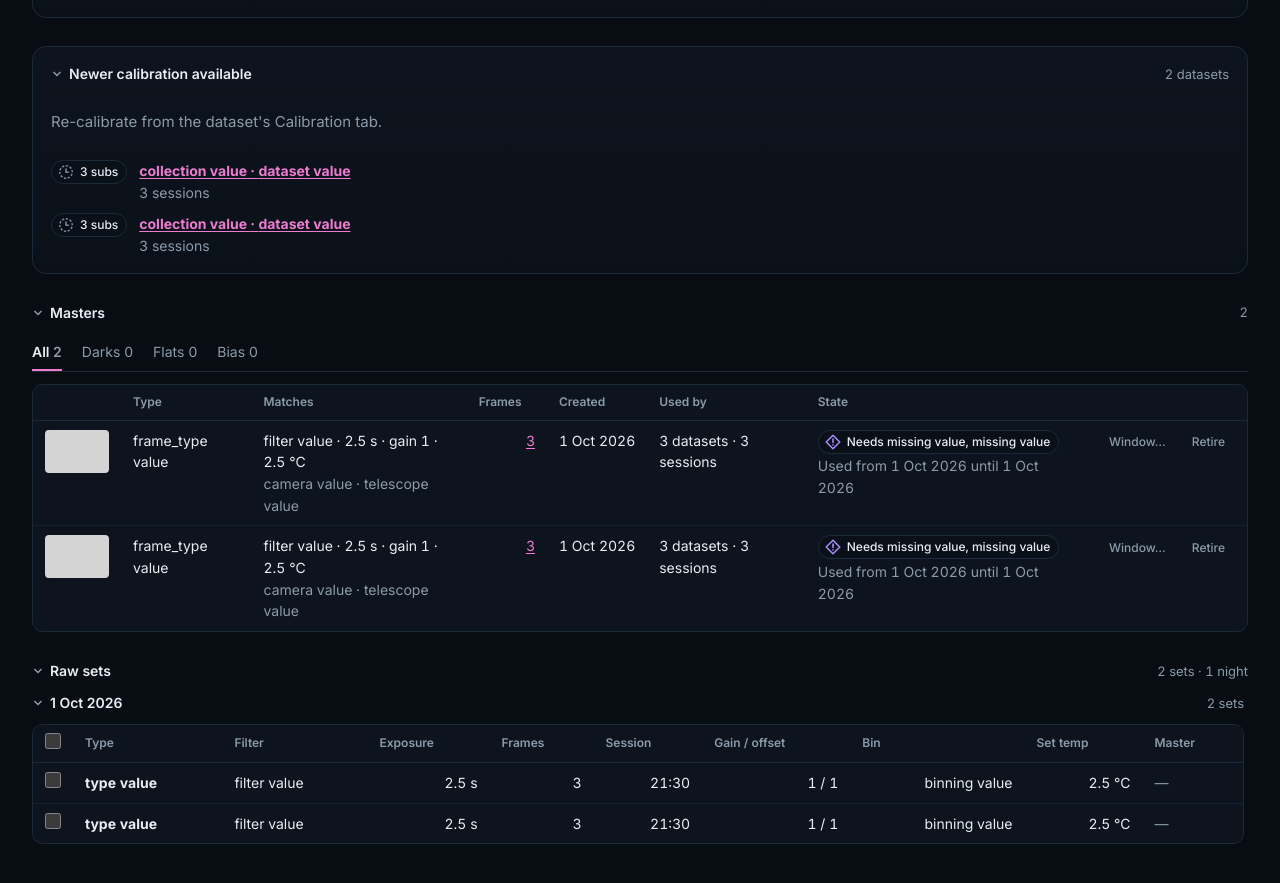
Scenario: bulk selection (spec 016 U6) › builds several calibration sets from one bar
(page scrolled)
Click the checkbox named "Select every set from". click: (53,740)
box: top-left (45, 732), bottom-right (61, 748)
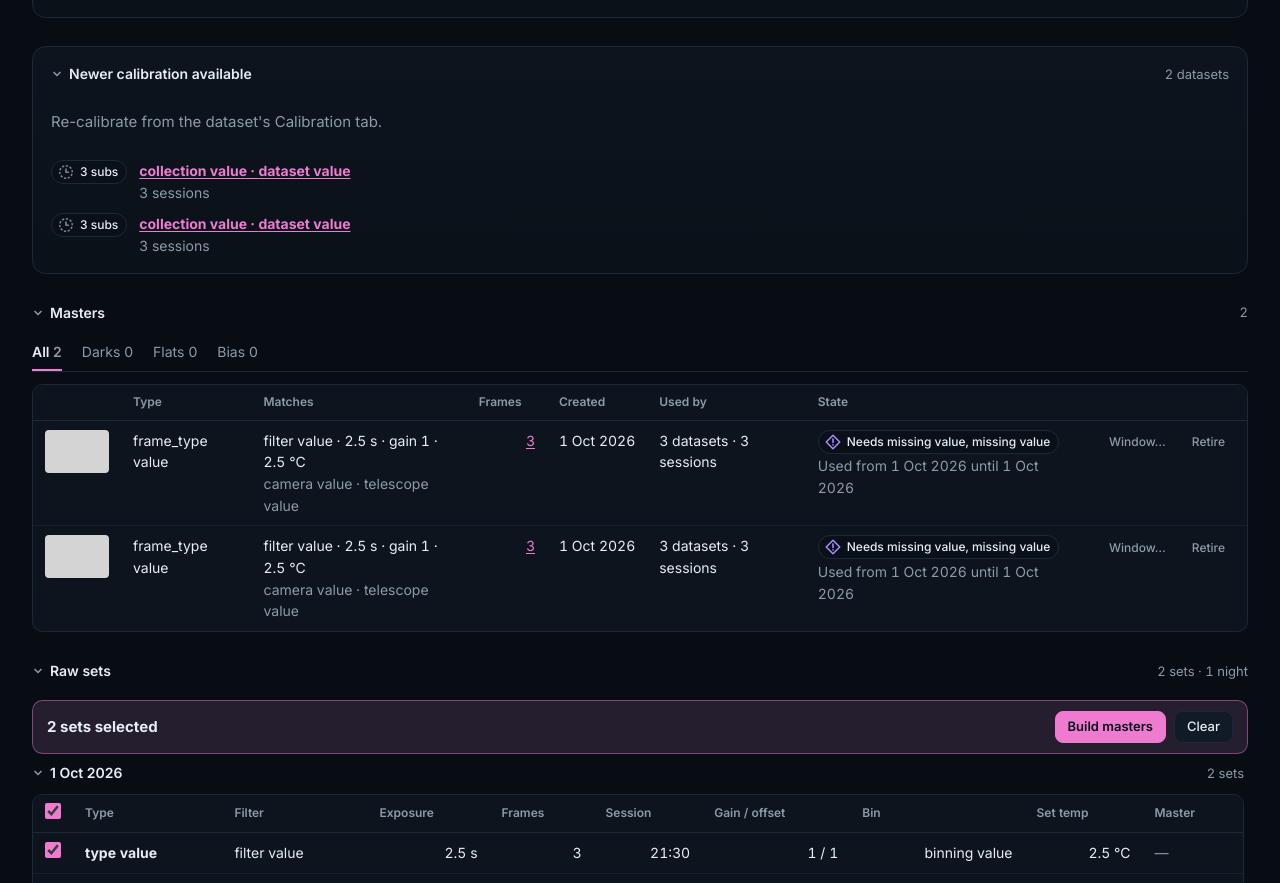
Expected: the text "2 sets selected" is shown, top-left (47, 715), bottom-right (158, 738)
Click the button "Build masters". click: (1110,727)
box: top-left (1054, 711), bottom-right (1166, 743)
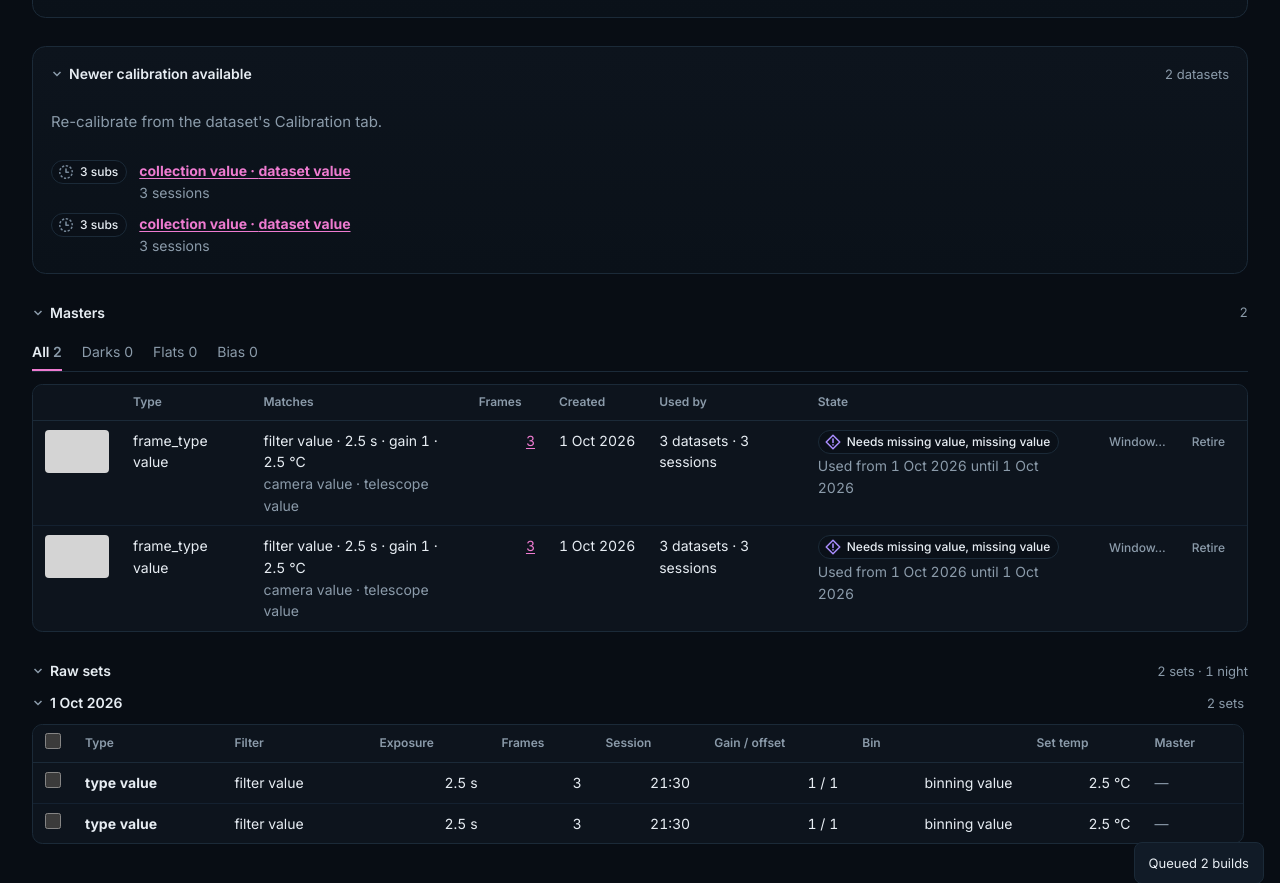
Expected: the text "Queued 2 builds" is shown, top-left (1148, 853), bottom-right (1249, 873)
